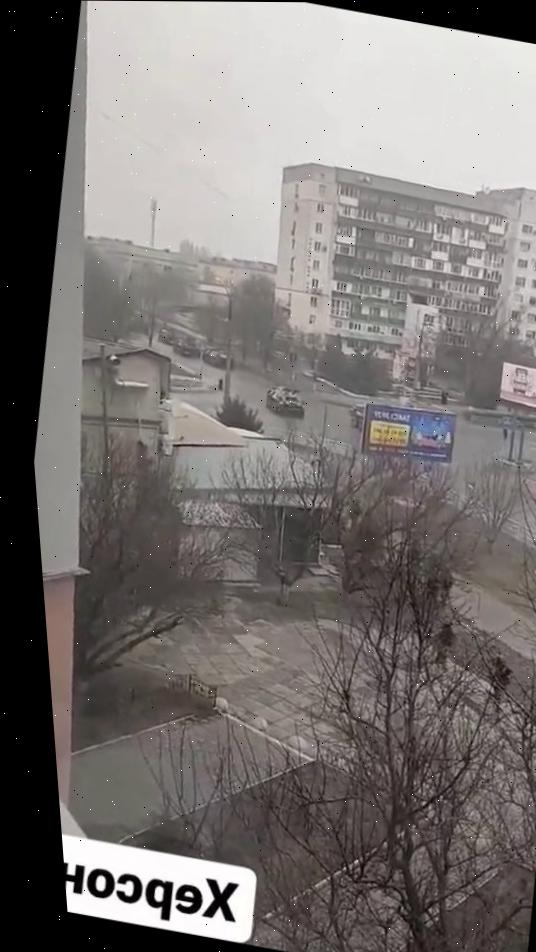person: (479, 650, 516, 720), (421, 614, 463, 675), (212, 374, 224, 393)
tank: (259, 381, 308, 421), (194, 340, 235, 374), (165, 332, 203, 361), (150, 322, 180, 349)
